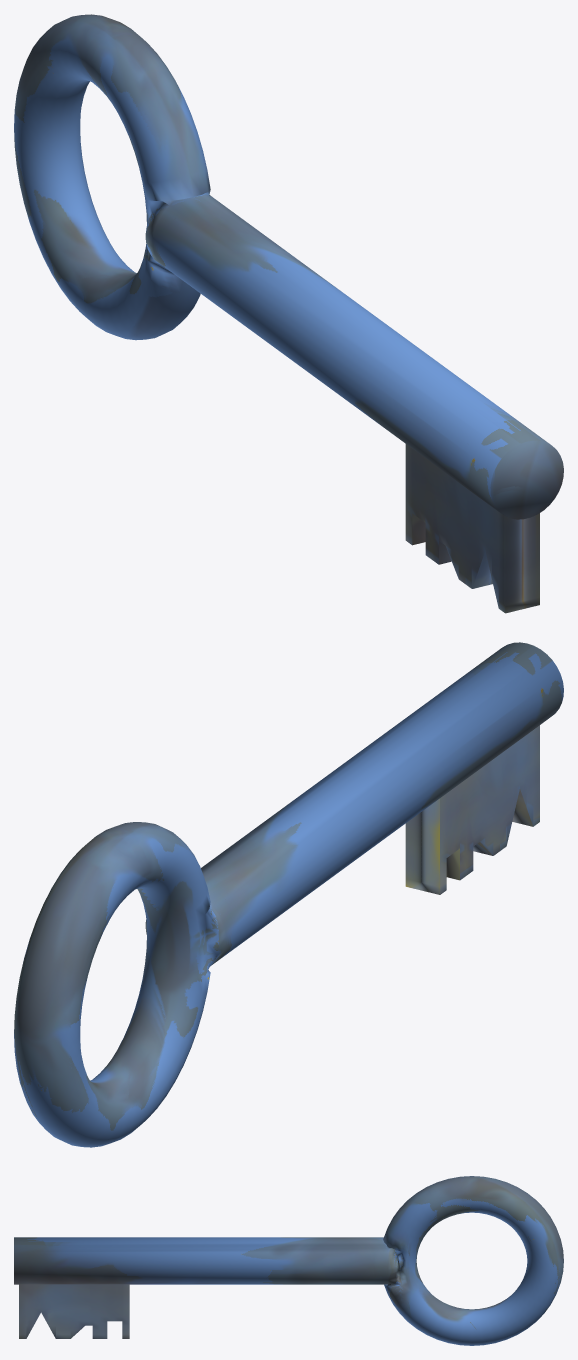
The model's file is keyblue.fbx.
3 renders of one model, top to bottom at view 1: azimuth 30°, elevation 25°; view 2: azimuth 150°, elevation 25°; view 3: azimuth 270°, elevation 25°, orthographic. The views are drawn at different scales.
Visible parts, largest first — view 1: Torus.001, Cube.001; view 2: Torus.001, Cube.001; view 3: Torus.001, Cube.001.
Boxes of the visible parts, left/top/right/bottom form: Torus.001: left=14, top=14, right=563, bottom=519; Cube.001: left=405, top=444, right=539, bottom=613; Torus.001: left=14, top=642, right=563, bottom=1147; Cube.001: left=405, top=725, right=539, bottom=894; Torus.001: left=14, top=1176, right=563, bottom=1345; Cube.001: left=19, top=1284, right=129, bottom=1338.
Bounding box in the file's own units: 21.29 × 83.25 × 249.
2 materials, 2 textured.
